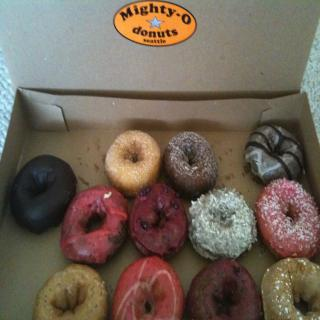Doughnut: (10, 131, 320, 320), (105, 130, 161, 195)
